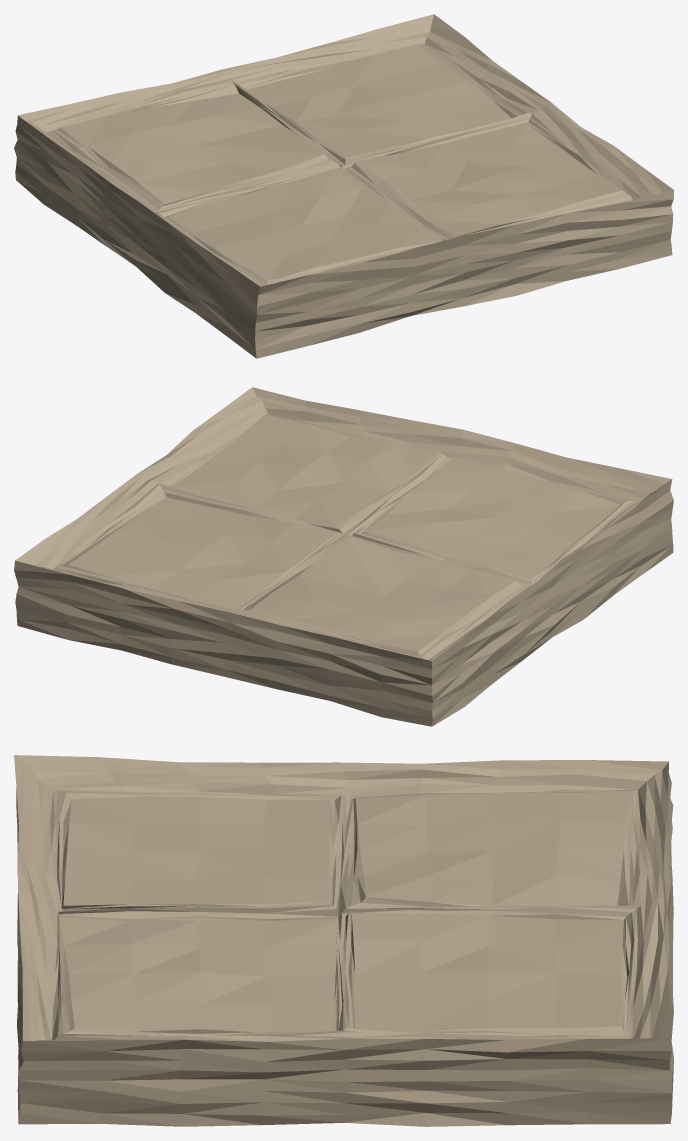
The model's file is SM_FloorTile_A.fbx.
3 views of the same model, one above another, from view 1: azimuth 30°, elevation 25°; view 2: azimuth 150°, elevation 25°; view 3: azimuth 270°, elevation 25° (orthographic). The views are drawn at different scales.
Visible parts, largest first — view 1: SM_FloorTile_A; view 2: SM_FloorTile_A; view 3: SM_FloorTile_A.
Boxes of the visible parts, box(x1,y1,x2,y2) form: SM_FloorTile_A: box(14, 14, 673, 358); SM_FloorTile_A: box(14, 387, 673, 726); SM_FloorTile_A: box(14, 755, 673, 1126).
Bounding box in the file's own units: 2.03 × 0.3342 × 2.03.
